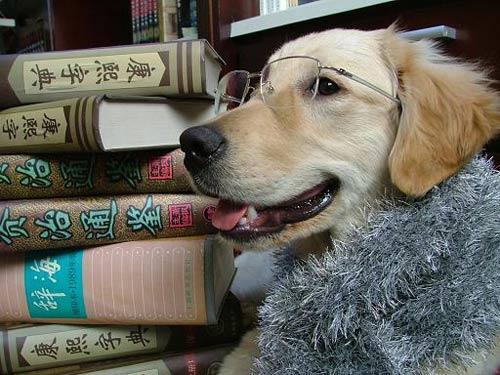dog: (176, 28, 498, 292)
